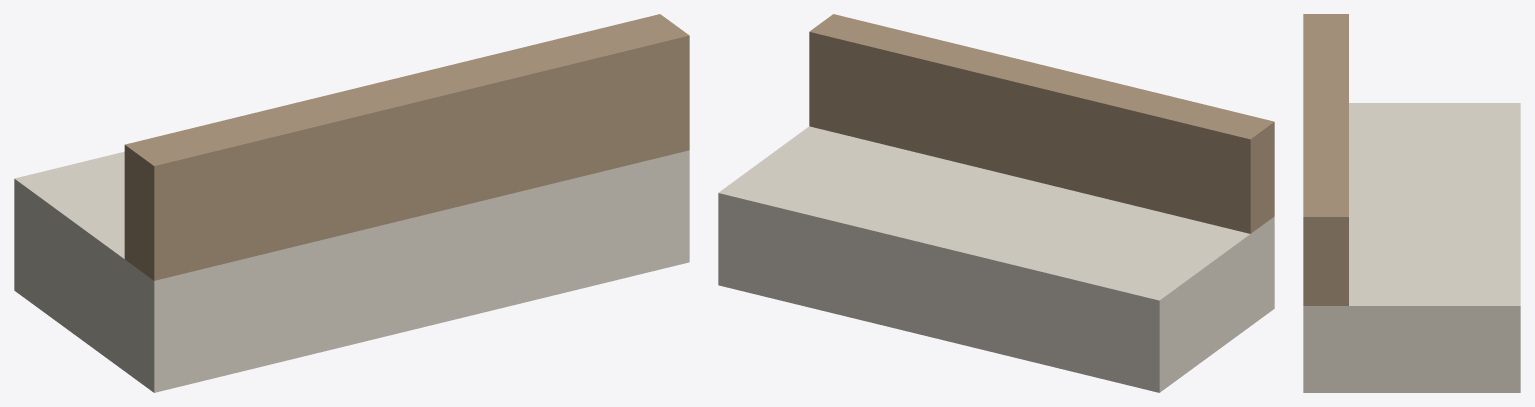
The model's file is box-sofa.glb.
The picture shows the model from 3 angles, left to right: view 1: azimuth 30°, elevation 25°; view 2: azimuth 150°, elevation 25°; view 3: azimuth 270°, elevation 25°; orthographic projection. The views are drawn at different scales.
Parts seen in each view (by area): view 1: box_sofa; view 2: box_sofa; view 3: box_sofa.
Part boxes in pixels (box(x1,y1,x2,y2)): box_sofa: box(14, 14, 689, 392); box_sofa: box(718, 14, 1274, 392); box_sofa: box(1303, 14, 1520, 392).
Size of the model in its own units: 2.1 by 0.85 by 0.95.
